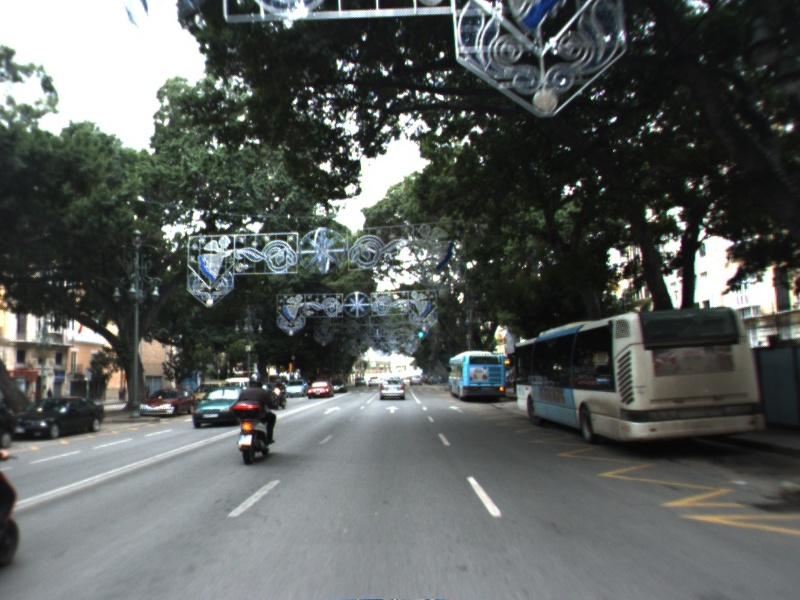STRAIGHT: (321, 405, 343, 416), (446, 403, 466, 415), (383, 404, 402, 415)
